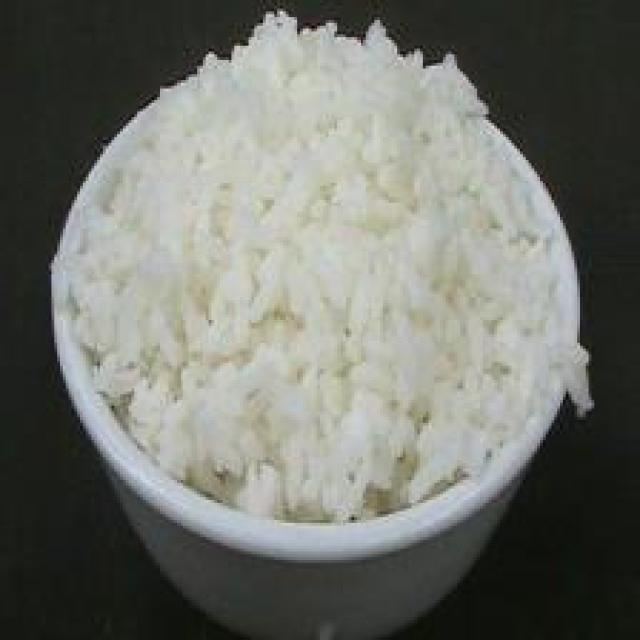Wet Waste: (63, 5, 593, 528)
